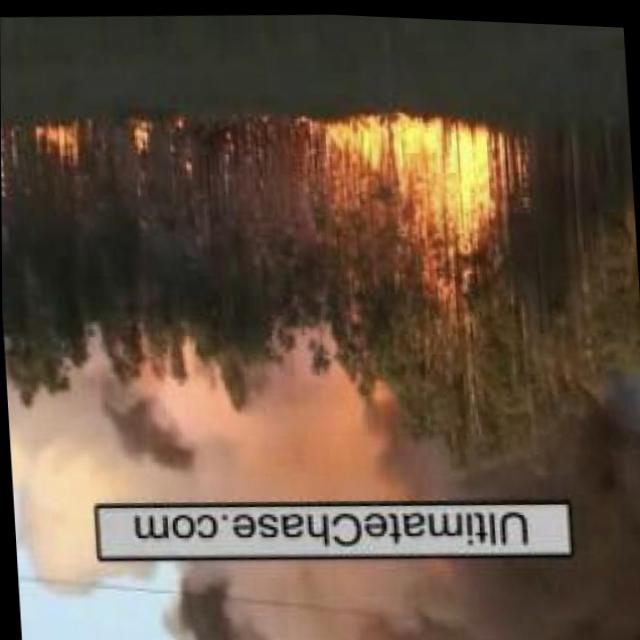Fire: (305, 103, 505, 262), (31, 115, 82, 165), (120, 119, 157, 153)
